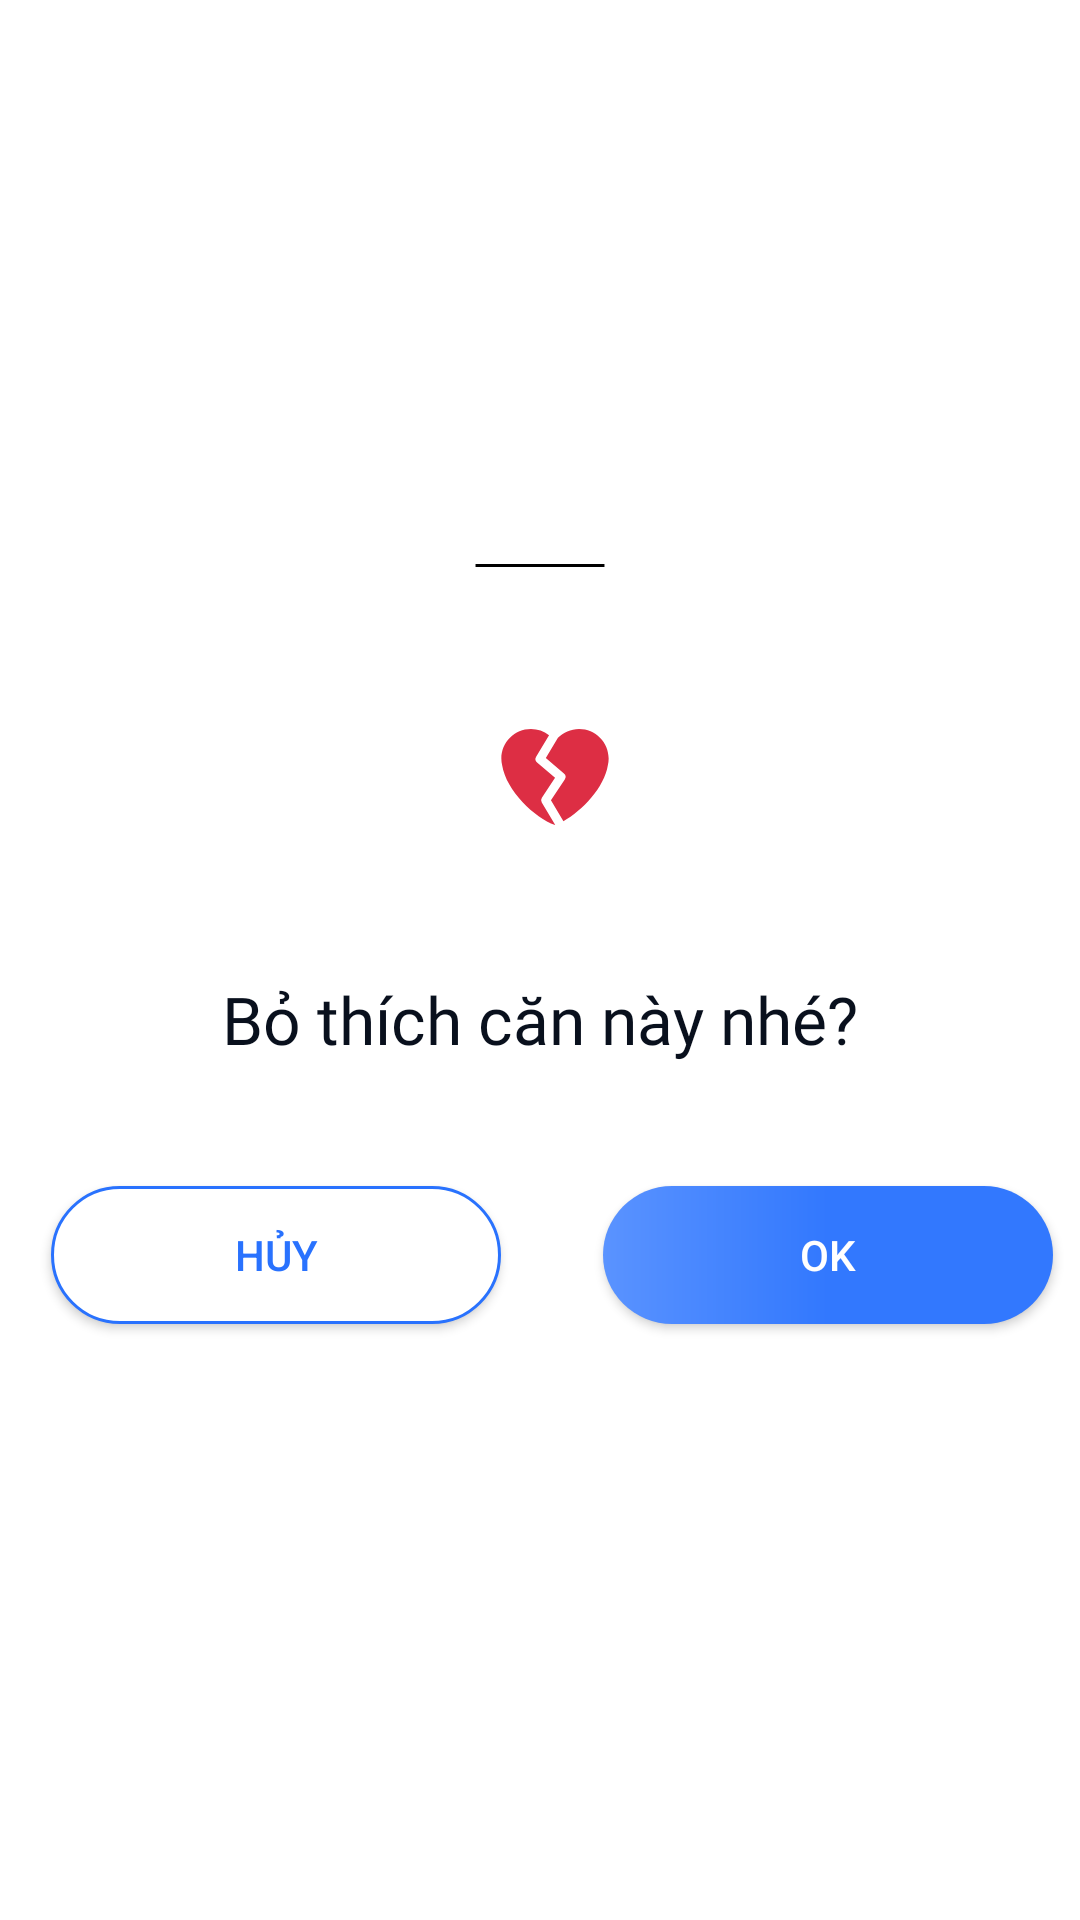

Screen size 1080x1920. Icon name, then its box in pixels as (x1, y1, x2, y2):
broken heart: (501, 729, 609, 825)
